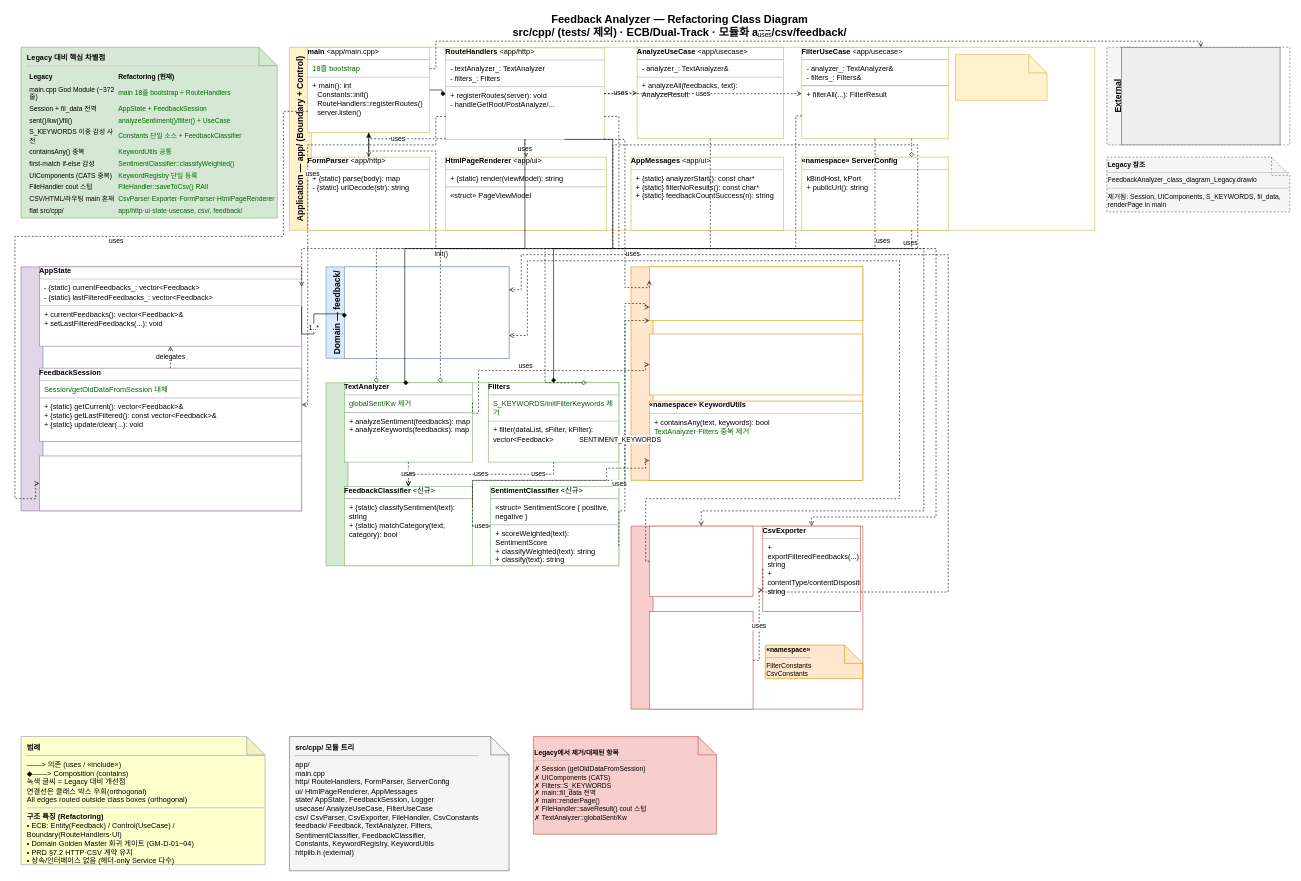
Some shapes in this 1301 by 881 pixel diagram are drawn without their labels. Each missing label, with the box of its shape:
Configuration — feedback/: (630, 266, 863, 480)
Constants SENTIMENT_KEYWORDS, CATEGORY_KEYWORDS + {static} init(): void: (649, 266, 863, 321)
CSV I/O — csv/: (630, 526, 863, 709)
CsvParser + parse(csvContent): CsvParseResult text 컬럼 인덱스 (H-2): (649, 526, 753, 596)
Feedback - text: string + Feedback(text: string) + getText(): const string&: (344, 266, 509, 358)
FileHandler cout 스텁 → saveToCsv() + {static} saveToCsv(data, path): bool: (649, 611, 753, 709)
KeywordRegistry <신규> UIComponents 대체 + categoryNames(): const vector<string>&: (649, 333, 863, 395)
Logger + {static} logInfo/Warning/Error/Debug(...): (39, 455, 302, 511)
Service / Classification — feedback/: (325, 382, 619, 566)
State — app/state/: (20, 266, 302, 511)
UseCase DTO AnalyzeResult FilterResult / FilterStatus: (955, 54, 1047, 100)
«external» httplib + Server, Request, Response: (1121, 47, 1280, 145)
